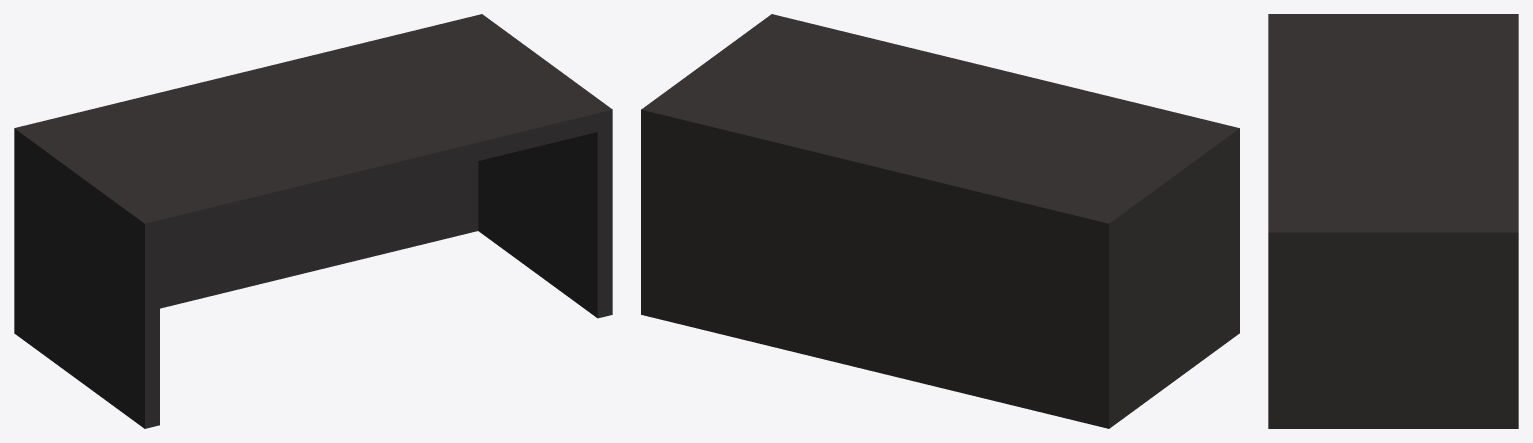
The model's file is desk5.FBX.
3 views of the same model, side by side, from view 1: azimuth 30°, elevation 25°; view 2: azimuth 150°, elevation 25°; view 3: azimuth 270°, elevation 25° (orthographic). The views are drawn at different scales.
Parts seen in each view (by area): view 1: desk5; view 2: desk5; view 3: desk5.
Boxes of the visible parts, x1,y1,x2,y2 form: desk5: [14, 14, 612, 428]; desk5: [641, 14, 1239, 428]; desk5: [1268, 14, 1518, 428].
Bounding box in the file's own units: 184 × 77.15 × 89.07.
1 material, 1 textured.
